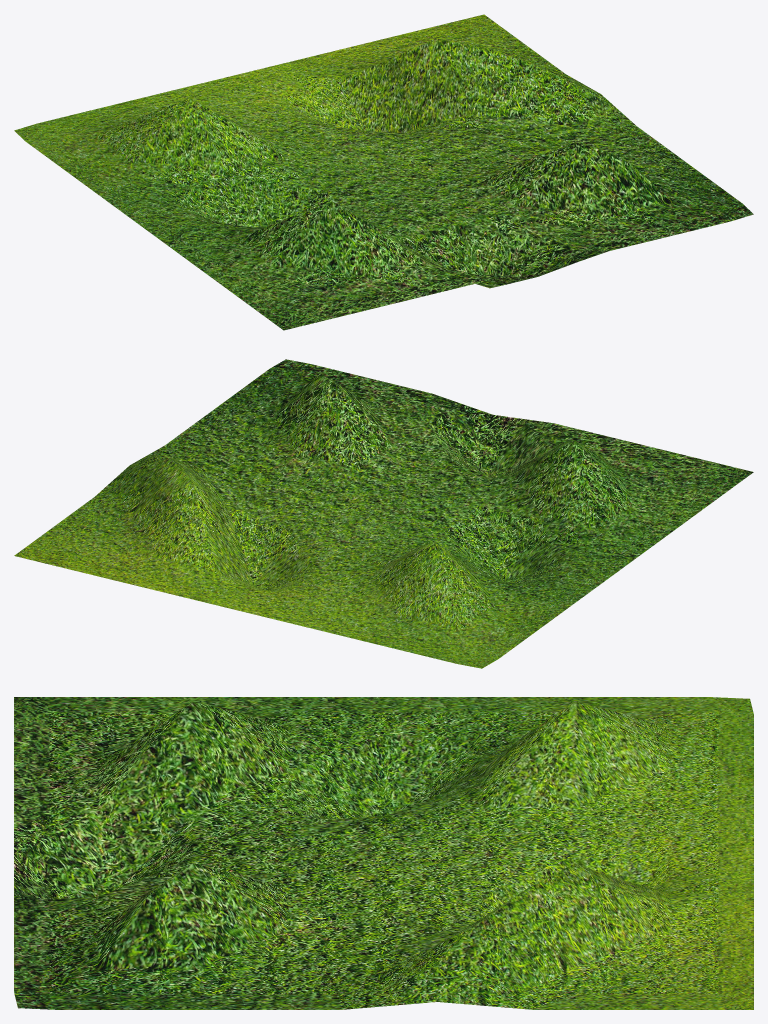
File: floor.obj
The picture shows the model from 3 angles, top to bottom: view 1: azimuth 30°, elevation 25°; view 2: azimuth 150°, elevation 25°; view 3: azimuth 270°, elevation 25°; orthographic projection. The views are drawn at different scales.
Visible parts, largest first — view 1: Cube.001; view 2: Cube.001; view 3: Cube.001.
Part boxes in pixels (<box>): Cube.001: <box>14,14,753,330</box>; Cube.001: <box>14,359,753,668</box>; Cube.001: <box>14,697,753,1009</box>.
Size of the model in its own units: 969 by 177 by 969.
Materials: 1 (1 with a texture image).
